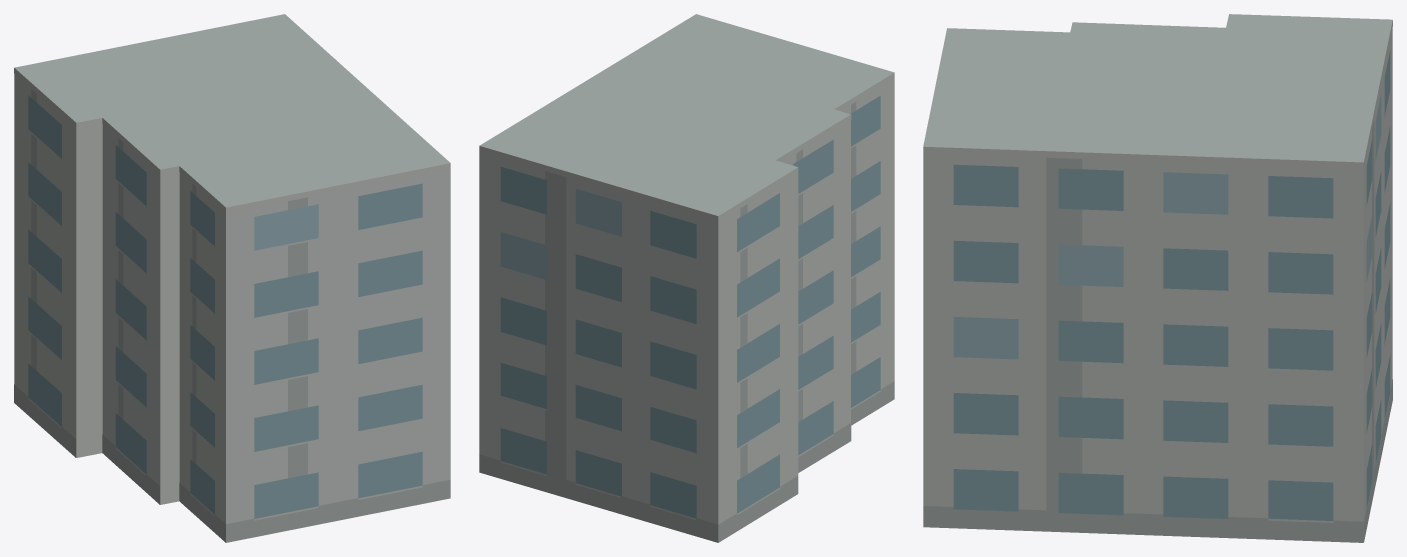
File: survey-upis-32767354.glb
3 renders of one model, left to right at view 1: azimuth 30°, elevation 25°; view 2: azimuth 150°, elevation 25°; view 3: azimuth 270°, elevation 25°, orthographic. The views are drawn at different scales.
Parts seen in each view (by area): view 1: survey-upis-32767354.tmp; view 2: survey-upis-32767354.tmp; view 3: survey-upis-32767354.tmp.
Part boxes in pixels (left/top/right/bottom): survey-upis-32767354.tmp: left=14, top=14, right=450, bottom=542; survey-upis-32767354.tmp: left=479, top=14, right=894, bottom=542; survey-upis-32767354.tmp: left=923, top=14, right=1392, bottom=542.
Size of the model in its own units: 11.68 by 13.95 by 15.62.
